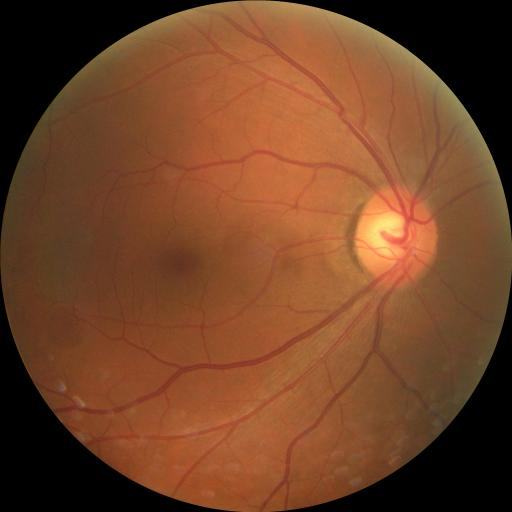Optic Cup: (369, 211, 413, 257)
Optic Disc: (353, 185, 438, 286)
